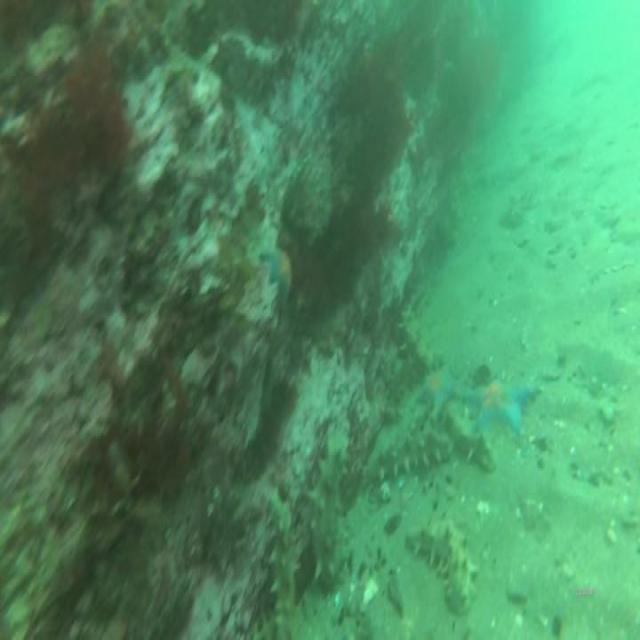holothurian: (404, 507, 476, 618), (310, 433, 348, 597), (264, 485, 300, 640), (361, 428, 451, 485), (447, 398, 499, 479), (392, 306, 436, 372)
starfish: (468, 368, 540, 441), (413, 360, 468, 420), (260, 242, 298, 303)
